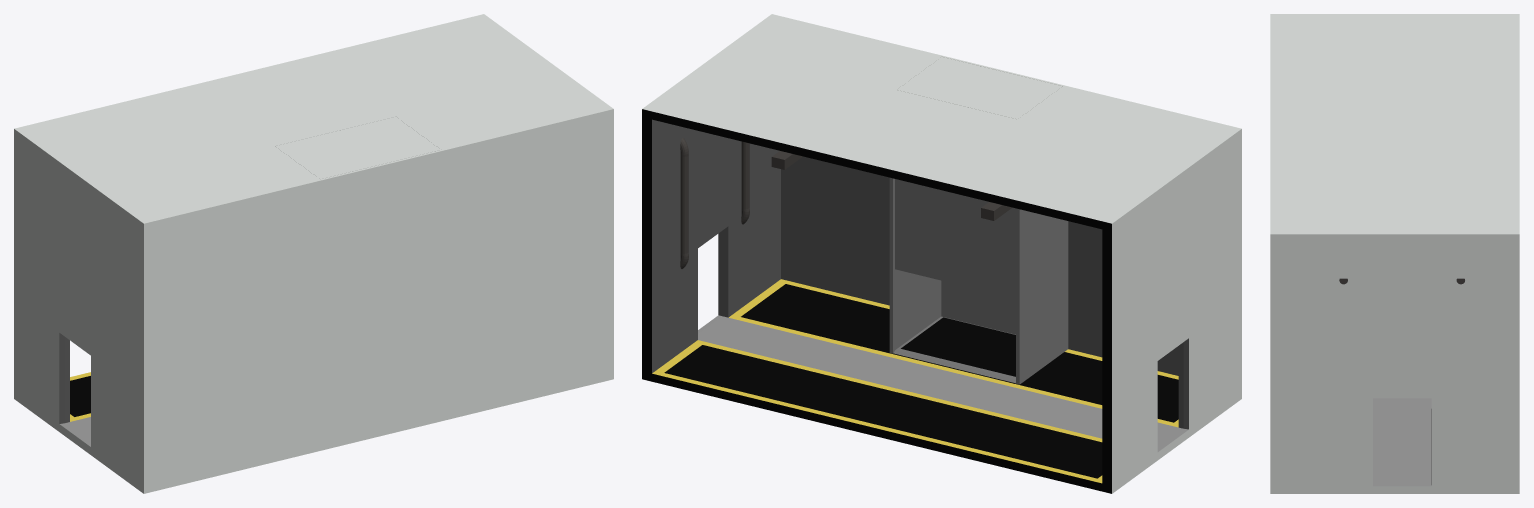
Rendered from EleRoom.fbx.
3 views of the same model, side by side, from view 1: azimuth 30°, elevation 25°; view 2: azimuth 150°, elevation 25°; view 3: azimuth 270°, elevation 25° (orthographic). The views are drawn at different scales.
Parts seen in each view (by area): view 1: BaseRoom.003; view 2: BaseRoom.003; view 3: BaseRoom.003.
Boxes of the visible parts, bbox=[...] form: BaseRoom.003: bbox=[14, 14, 613, 493]; BaseRoom.003: bbox=[642, 14, 1241, 493]; BaseRoom.003: bbox=[1270, 14, 1519, 493].
Size of the model in its own units: 1807 by 992 by 864.
